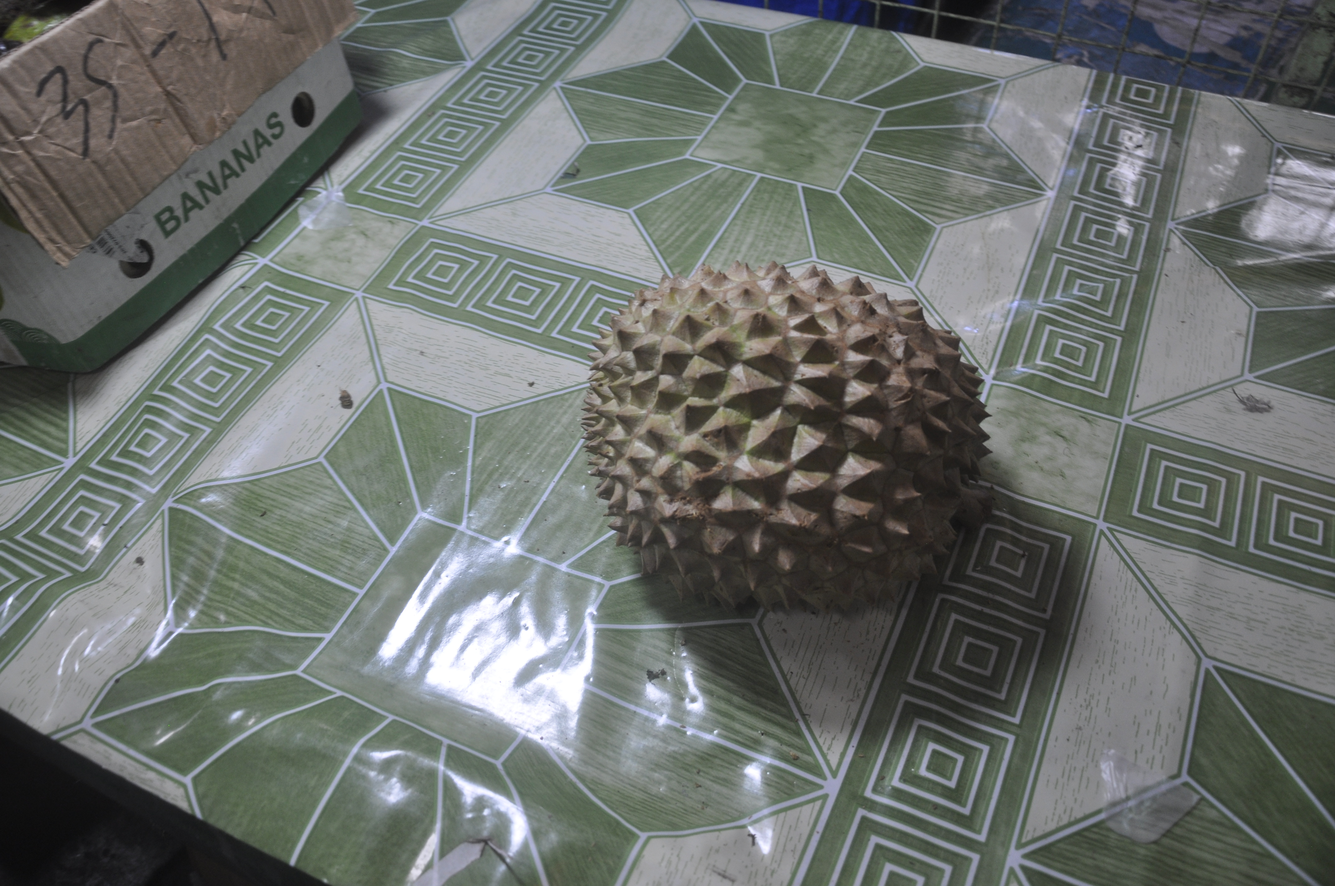mature: (582, 263, 992, 611)
